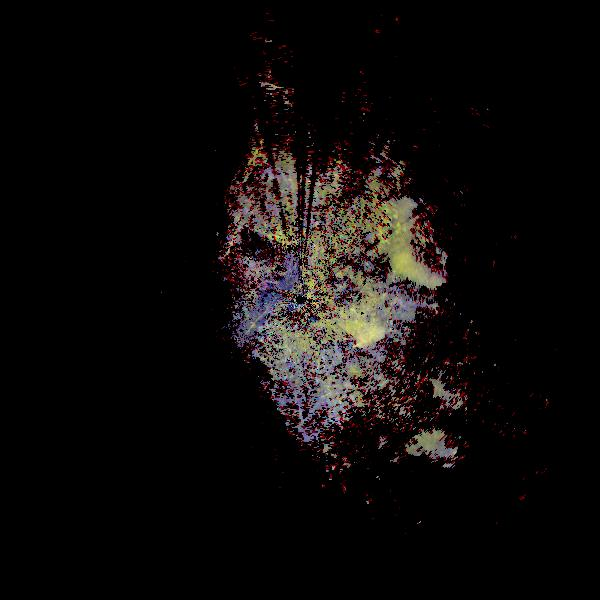roost: (378, 180, 501, 303), (389, 416, 491, 518)
